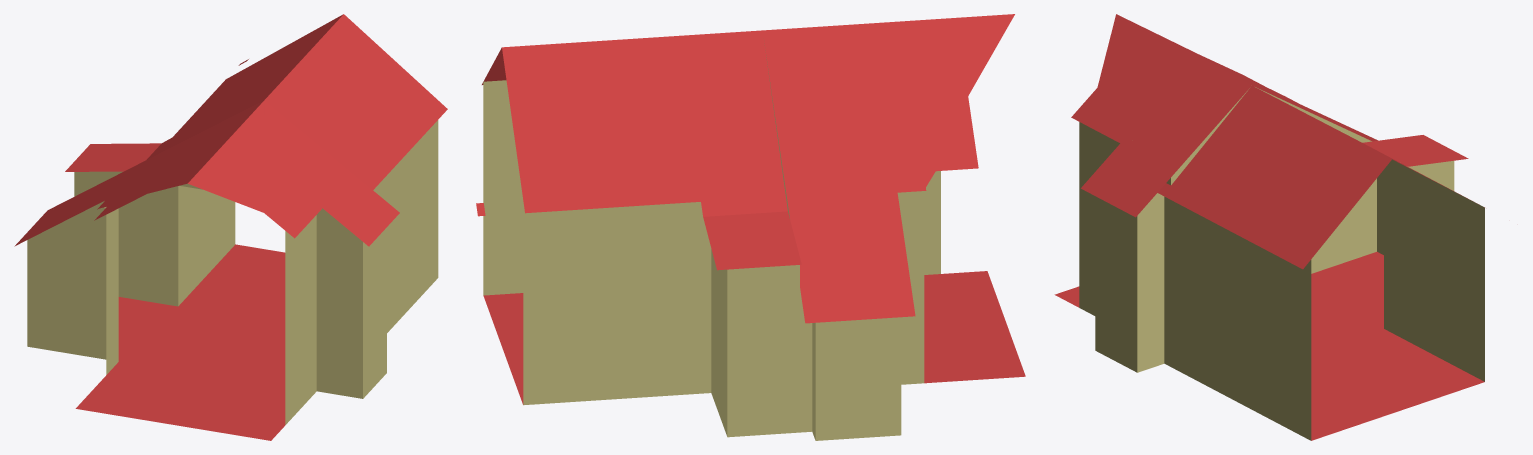
3 renders of one model, left to right at view 1: azimuth 30°, elevation 25°; view 2: azimuth 150°, elevation 25°; view 3: azimuth 270°, elevation 25°, orthographic. The views are drawn at different scales.
Bounding box in the file's own units: 23.22 × 22.13 × 13.37.
